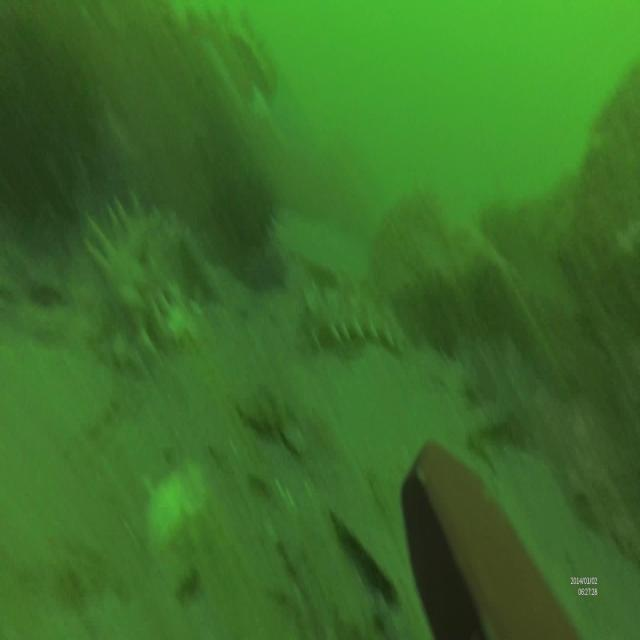holothurian: (83, 189, 221, 367), (298, 276, 406, 357)
